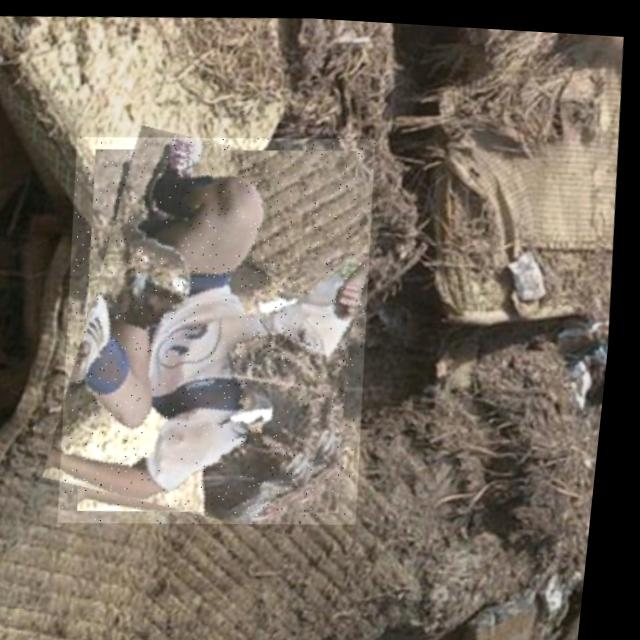Person in Rubble: (47, 121, 397, 535)
